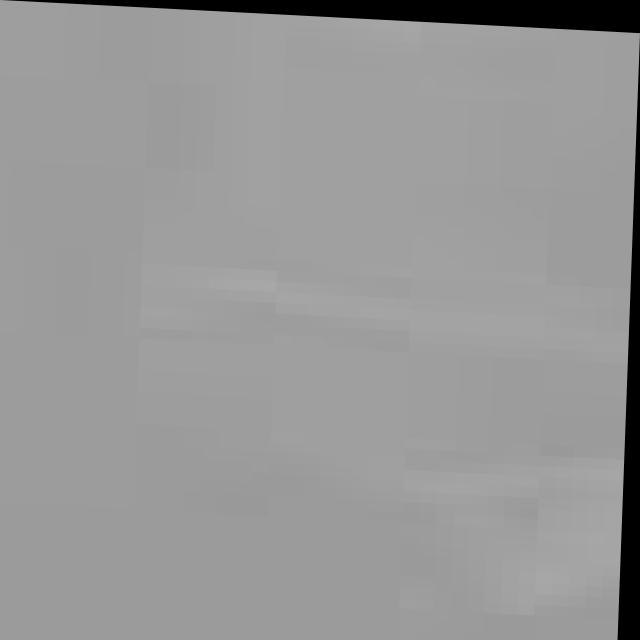fracture: (0, 26, 640, 640)
